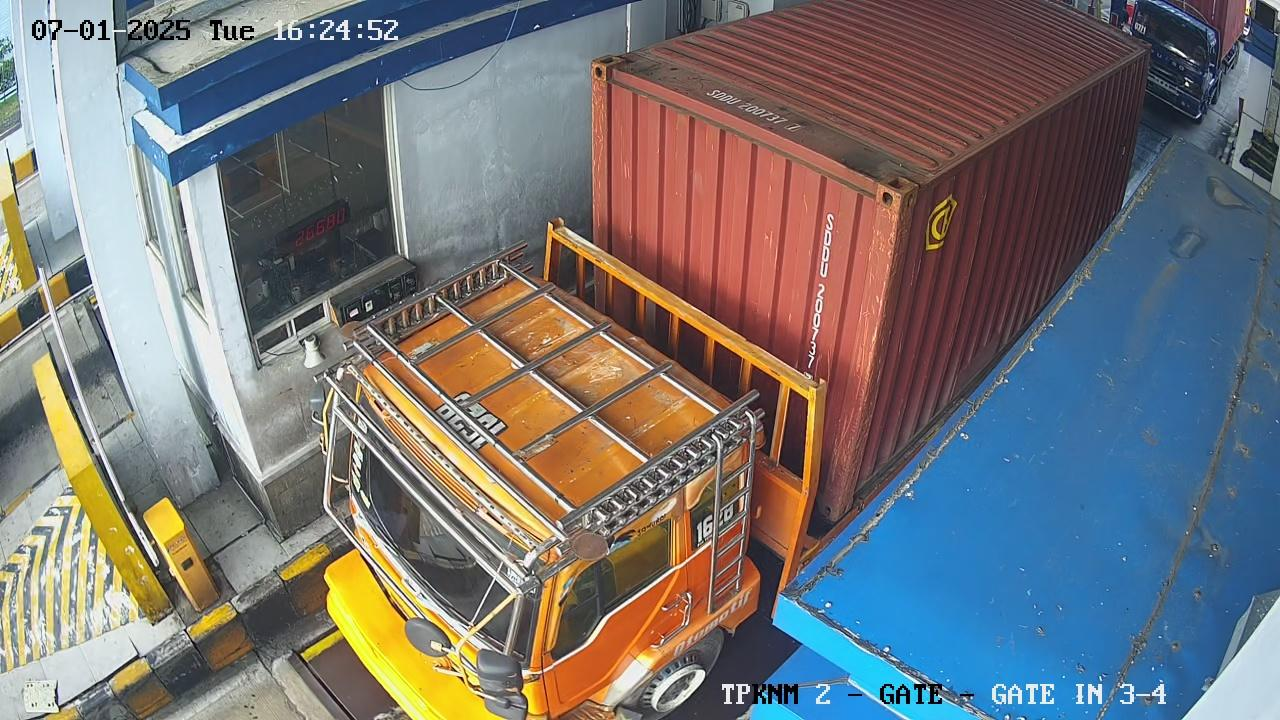Container_ID: (650, 66, 857, 157)
truck_id: (797, 214, 835, 376), (426, 390, 517, 457), (692, 493, 746, 549)
